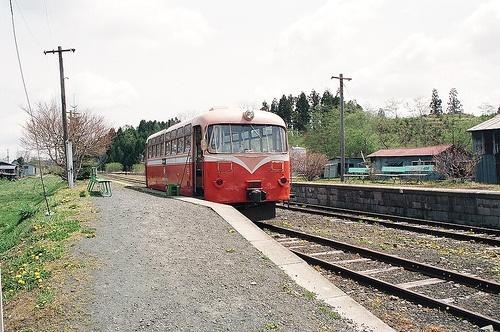train: (144, 107, 291, 221)
